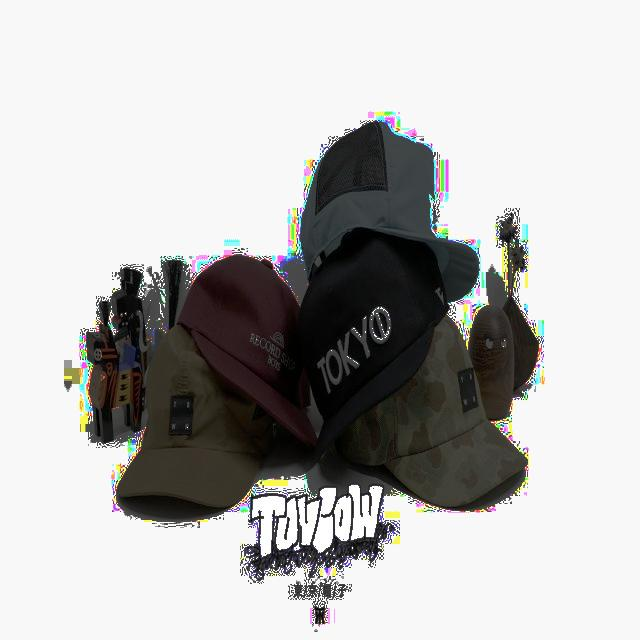TOPI: (302, 230, 452, 470), (343, 320, 534, 508), (300, 116, 482, 310), (176, 256, 318, 454), (116, 322, 260, 510)
